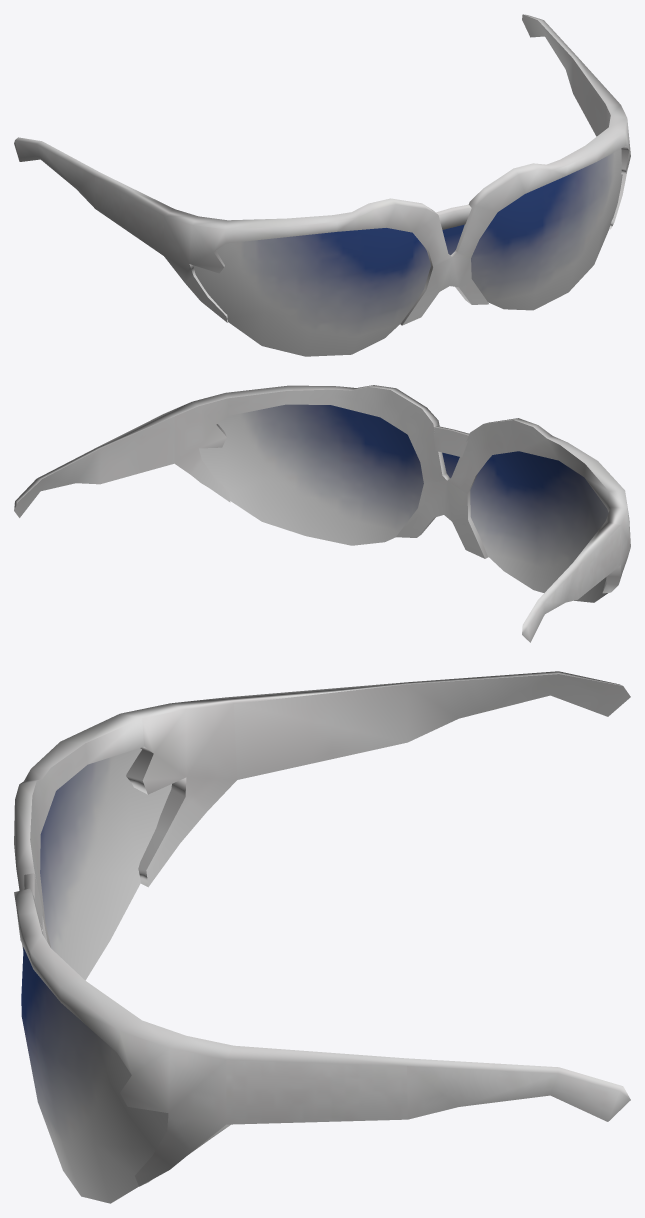
Rendered from p0_eyw0006_00_eyw00.gltf.
3 views of the same model, one above another, from view 1: azimuth 30°, elevation 25°; view 2: azimuth 150°, elevation 25°; view 3: azimuth 270°, elevation 25° (orthographic). The views are drawn at different scales.
Parts seen in each view (by area): view 1: eyw00_lens_mesh_shape:eyewear, eyw00_frame_mesh_shape:eyewear; view 2: eyw00_lens_mesh_shape:eyewear, eyw00_frame_mesh_shape:eyewear; view 3: eyw00_frame_mesh_shape:eyewear, eyw00_lens_mesh_shape:eyewear.
Boxes of the visible parts, x1,y1,x2,y2 form: eyw00_lens_mesh_shape:eyewear: [193, 149, 622, 356]; eyw00_frame_mesh_shape:eyewear: [14, 14, 630, 325]; eyw00_lens_mesh_shape:eyewear: [199, 404, 608, 602]; eyw00_frame_mesh_shape:eyewear: [14, 385, 630, 642]; eyw00_frame_mesh_shape:eyewear: [14, 671, 630, 1186]; eyw00_lens_mesh_shape:eyewear: [21, 748, 171, 1203].
Size of what is drawn, in the model's own units: 0.2217 by 0.0645 by 0.1421.
Materials: 1 (1 with a texture image).
